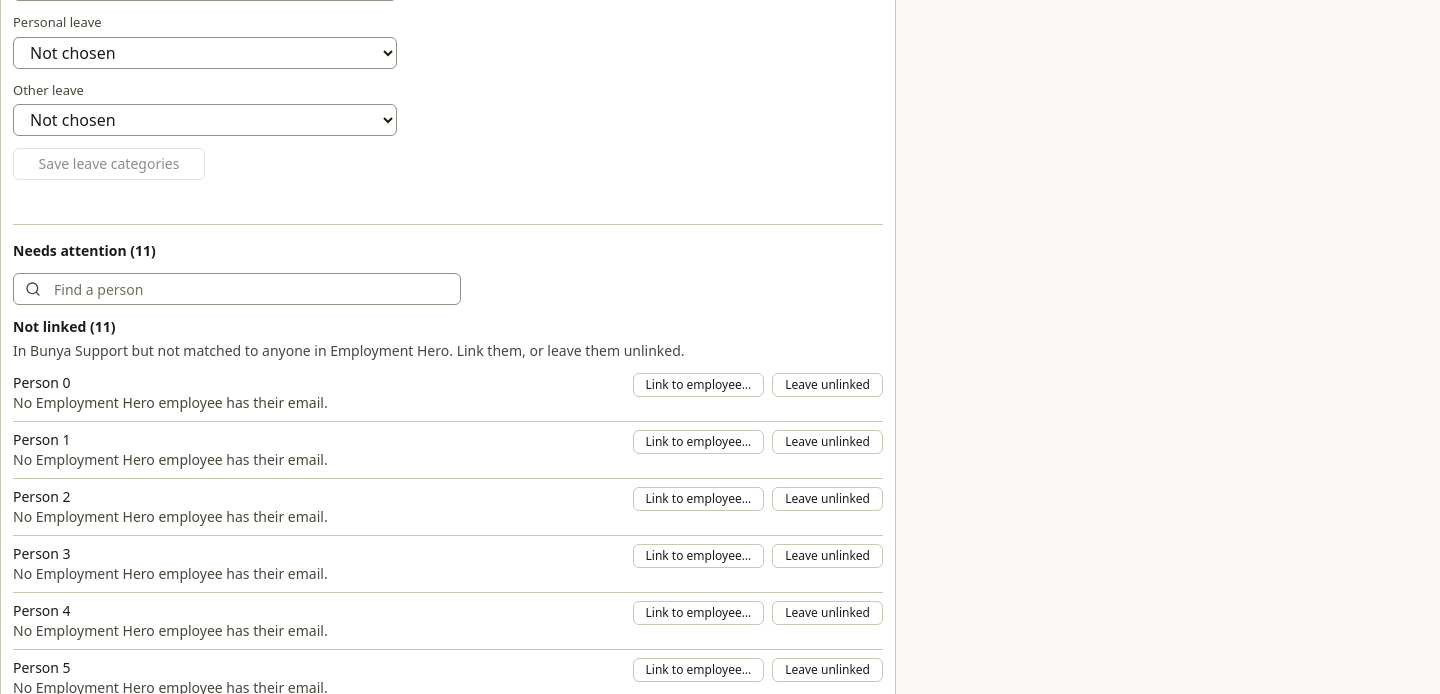
Test: IntegrationsTab — the approved brief › offers a name filter above 10 items
This screenshot has width=1440, height=694.
(page scrolled)
Step 1. Type "Person 10" into the field labelled "Find a person" → (237, 289), box [13,273,461,305]
(page scrolled)
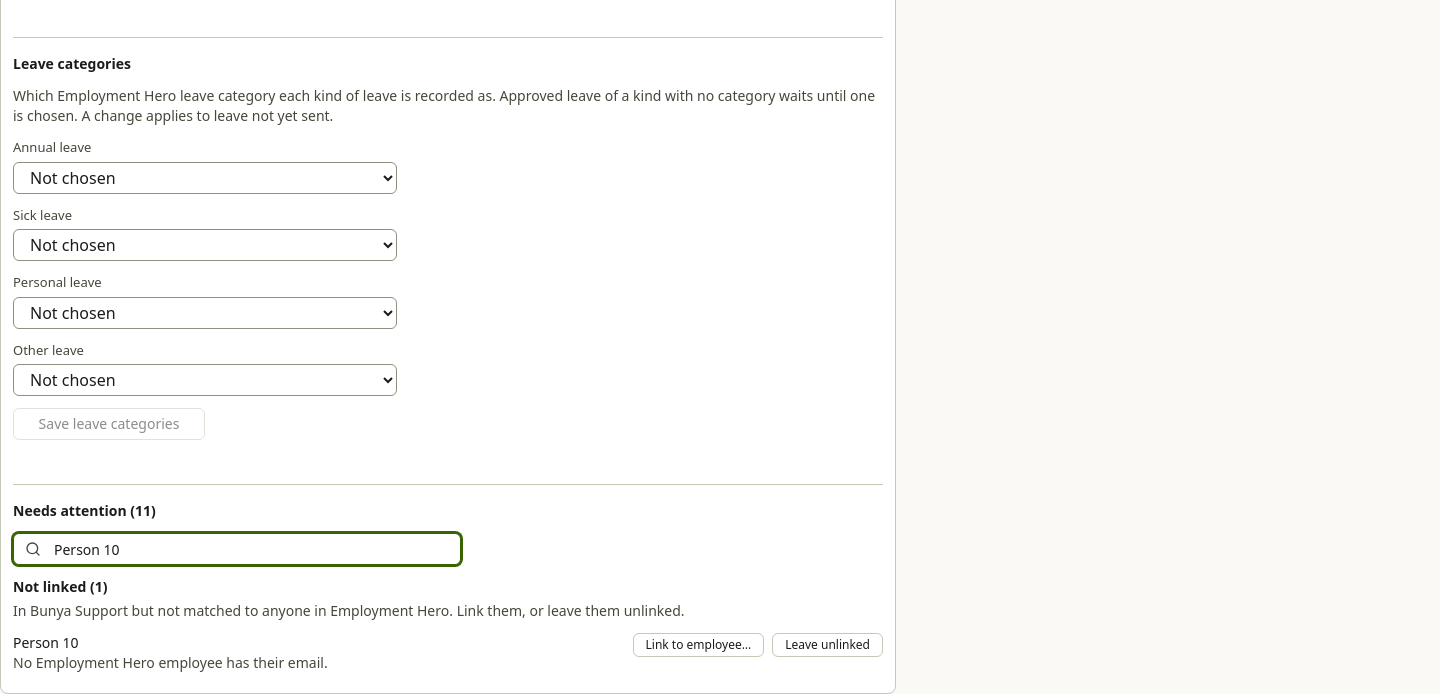
Expected: the text "Person 10" is shown, [13,633,79,652]
Expected: the text "Person 3" is gone
Expected: the heading "Not linked (1)" is shown, [13,577,108,596]
